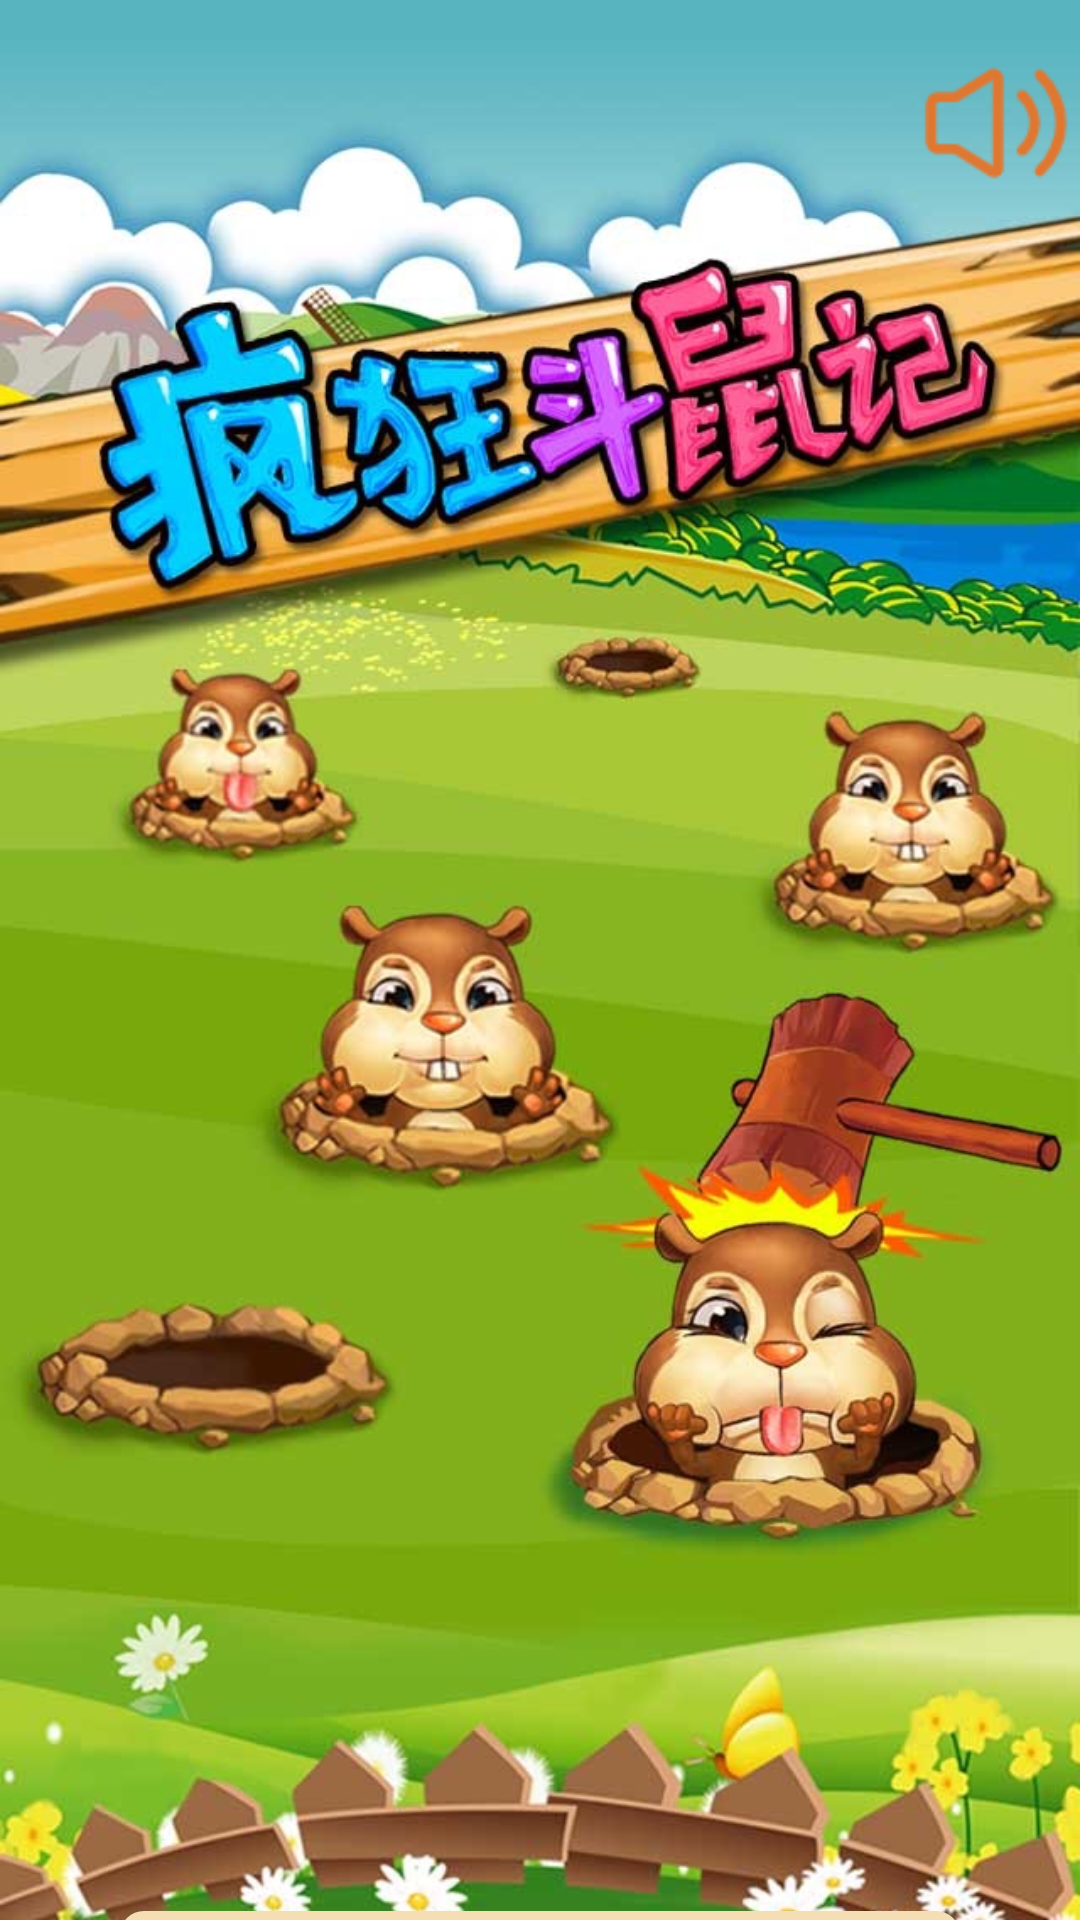

Named icons in this screenshot (1080 × 1920) and their centers, (x=x, y=y):
music on: (x=996, y=123)
